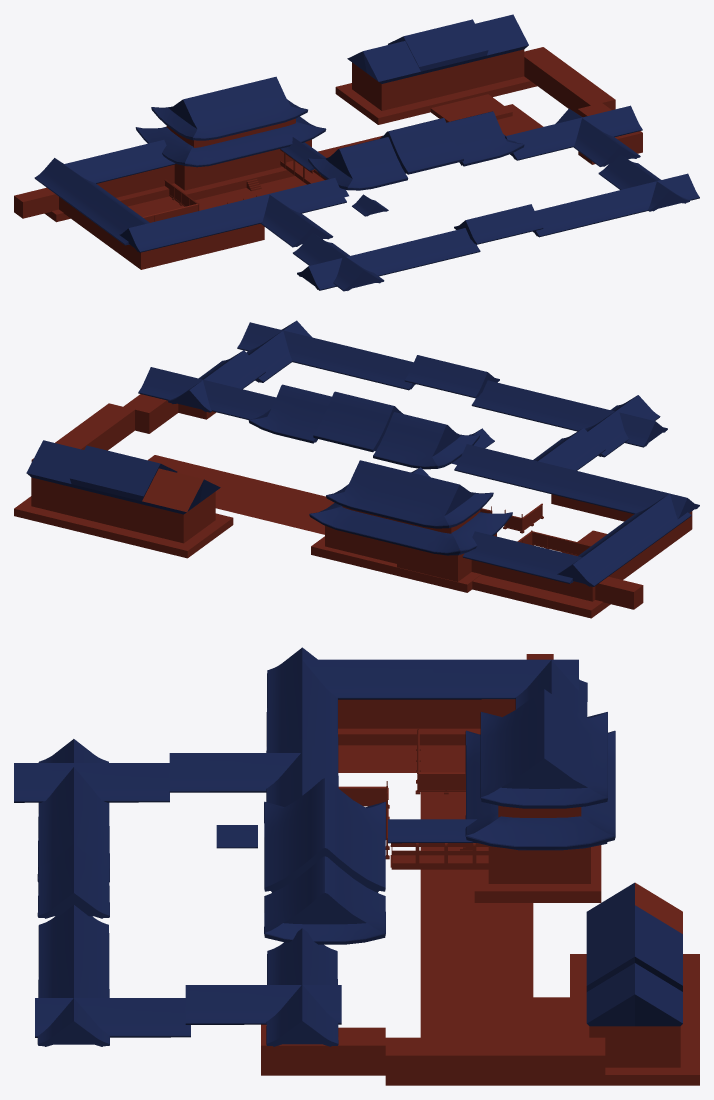
The model's file is Whitebox_Background_2.20.22.fbx.
The picture shows the model from 3 angles, top to bottom: view 1: azimuth 30°, elevation 25°; view 2: azimuth 150°, elevation 25°; view 3: azimuth 270°, elevation 25°; orthographic projection. The views are drawn at different scales.
Visible parts, largest first — view 1: RoofCaps_Far.014, Cube.001, RoofCaps_Far.006, RoofCaps_Far.011, RoofCaps_Far.008, RoofCaps_Far.001, RoofCaps_Far.007, RoofCaps_Far.005, RoofCaps_Far.002, Rear_Ground, RoofCaps_Far.013, RoofCaps_Far.010 (+5 smaller); view 2: RoofCaps_Far.014, Cube.001, RoofCaps_Far.006, RoofCaps_Far.011, RoofCaps_Far.008, Rear_Ground, RoofCaps_Far.001, RoofCaps_Far.005, RoofCaps_Far.002, RoofCaps_Far.007, RoofCaps_Far.010, RoofCaps_Far.013 (+5 smaller); view 3: RoofCaps_Far.014, Cube.001, Rear_Ground, RoofCaps_Far.008, RoofCaps_Far.001, RoofCaps_Far.011, RoofCaps_Far.007, RoofCaps_Far.006, RoofCaps_Far.013, RoofCaps_Far.005, RoofCaps_Far.002, RoofCaps_Far.004 (+8 smaller).
Boxes of the visible parts, x1,y1,x2,y2 form: RoofCaps_Far.014: (335, 14, 642, 164); Cube.001: (135, 76, 326, 203); RoofCaps_Far.006: (14, 140, 175, 231); RoofCaps_Far.011: (308, 118, 463, 190); RoofCaps_Far.008: (533, 154, 699, 237); RoofCaps_Far.001: (505, 105, 642, 166); RoofCaps_Far.007: (82, 192, 264, 269); RoofCaps_Far.005: (297, 228, 480, 290); RoofCaps_Far.002: (119, 198, 261, 252); Rear_Ground: (128, 104, 543, 216); RoofCaps_Far.013: (446, 111, 524, 166); RoofCaps_Far.010: (250, 178, 388, 221); RoofCaps_Far.014: (14, 394, 233, 558); Cube.001: (309, 460, 512, 592); RoofCaps_Far.006: (462, 527, 645, 618); RoofCaps_Far.011: (313, 391, 480, 469); RoofCaps_Far.008: (237, 320, 415, 390); Rear_Ground: (148, 455, 607, 555); RoofCaps_Far.001: (138, 350, 276, 419); RoofCaps_Far.005: (471, 380, 667, 447); RoofCaps_Far.002: (545, 466, 699, 519); RoofCaps_Far.007: (551, 493, 692, 569); RoofCaps_Far.010: (452, 428, 557, 492); RoofCaps_Far.013: (248, 384, 331, 443); RoofCaps_Far.014: (261, 882, 699, 1085); Cube.001: (460, 689, 615, 902); Rear_Ground: (338, 745, 533, 1037); RoofCaps_Far.008: (35, 905, 190, 1046); RoofCaps_Far.001: (185, 928, 341, 1046); RoofCaps_Far.011: (264, 778, 385, 892); RoofCaps_Far.007: (302, 659, 433, 745); RoofCaps_Far.006: (433, 654, 587, 745); RoofCaps_Far.013: (264, 856, 385, 944); RoofCaps_Far.005: (37, 739, 109, 882); RoofCaps_Far.002: (266, 647, 338, 760); RoofCaps_Far.004: (14, 763, 169, 802).
Size of the model in its own units: 9946 by 1420 by 7096.
